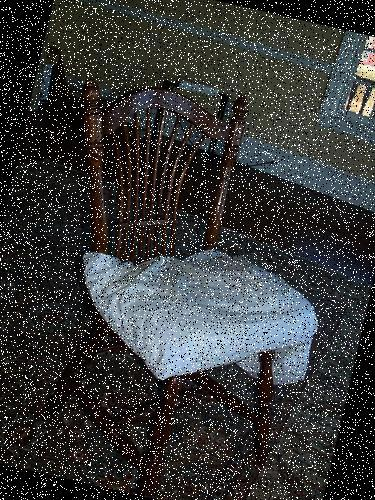Silla: (0, 61, 363, 499)
